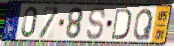0: (20, 5, 39, 39)
7: (38, 5, 61, 40)
8: (64, 6, 84, 40)
D: (111, 8, 132, 42)
Q: (132, 8, 154, 42)
S: (86, 6, 107, 42)
